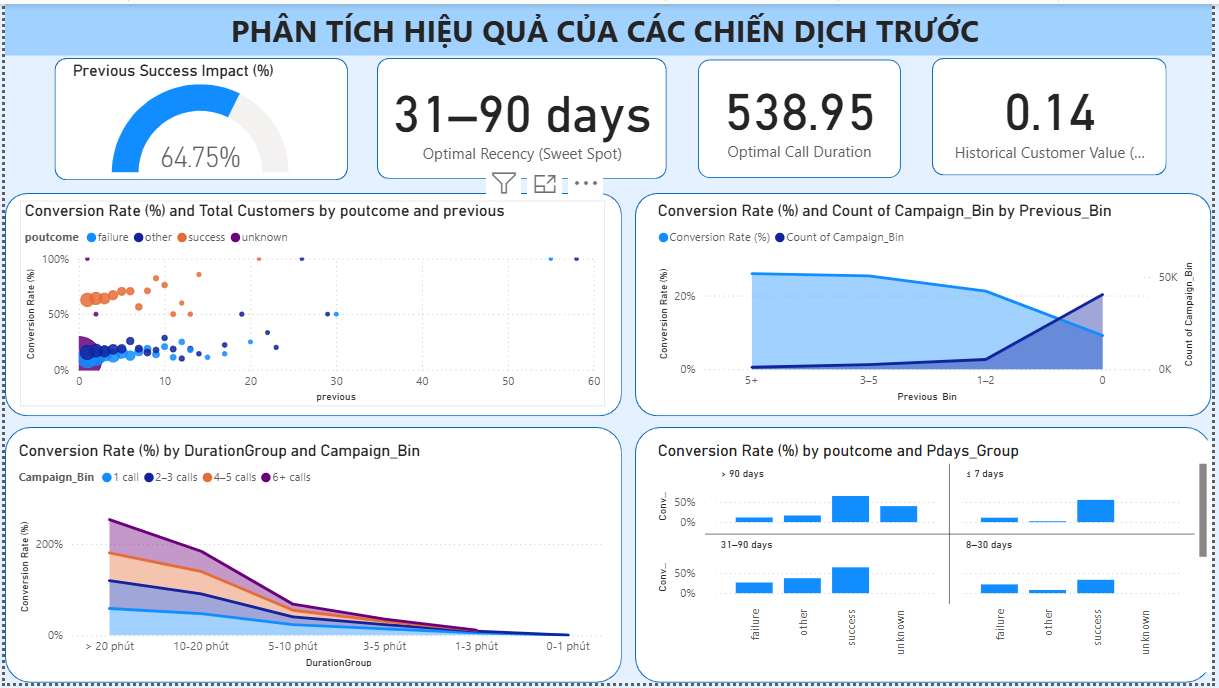

The dashboard page shown, as its layout file describes it:
{"tool":"powerbi","page":{"name":"Previous Campaign Analyisis","canvas":[1280,720],"ordinal":2},"visuals":[{"type":"shape","box":[0,449,654.2,271.1],"z":0},{"type":"shape","box":[668.5,200.8,611.1,236.7],"z":500},{"type":"shape","box":[394,57,307.2,128.3],"z":1000},{"type":"shape","box":[668.5,449,611.1,271.1],"z":1500},{"type":"shape","box":[734.9,58.3,215.1,125.7],"z":2000},{"type":"shape","box":[0,200.8,654.2,236.7],"z":2500},{"type":"shape","box":[983.7,57,248.8,124.4],"z":3000},{"type":"textbox","box":[0,0,1281.1,54.5],"z":4000},{"type":"shape","box":[51.8,57,311.1,129.6],"z":5000},{"type":"gauge","fields":{"Y":["Fact_Marketing_Campaign.Previous Success Impact (%)"]},"box":[67.4,60.9,279.9,123.1],"z":6000},{"type":"columnChart","fields":{"Category":["Dim_Previous_Campaign.poutcome"],"Rows":["Fact_Marketing_Campaign.Pdays_Group"],"Y":["Fact_Marketing_Campaign.Conversion Rate (%)"]},"box":[687.2,463.4,592.5,245.3],"z":7000},{"type":"card","fields":{"Values":["Fact_Marketing_Campaign.Historical Customer Value (%)"]},"box":[999.3,60.9,217.7,115.3],"z":8000},{"type":"card","fields":{"Values":["Fact_Marketing_Campaign.Optimal Recency (Sweet Spot)"]},"box":[399.2,62.2,298.1,115.3],"z":9000},{"type":"scatterChart","fields":{"Y":["Fact_Marketing_Campaign.Conversion Rate (%)"],"X":["Fact_Marketing_Campaign.previous"],"Size":["Fact_Marketing_Campaign.Total Customers"],"Series":["Fact_Marketing_Campaign.poutcome"]},"box":[16,209,620,218],"z":11000},{"type":"stackedAreaChart","fields":{"Category":["Fact_Marketing_Campaign.DurationGroup"],"Series":["Fact_Marketing_Campaign.Campaign_Bin"],"Y":["Fact_Marketing_Campaign.Conversion Rate (%)"]},"box":[10,463.4,631.2,245.3],"z":12000},{"type":"card","fields":{"Values":["Fact_Marketing_Campaign.Optimal Call Duration"]},"box":[750.4,60.9,182.7,114.1],"z":13000},{"type":"areaChart","fields":{"Category":["Fact_Marketing_Campaign.Previous_Bin"],"Y":["Fact_Marketing_Campaign.Conversion Rate (%)"],"Y2":["CountNonNull(Fact_Marketing_Campaign.Campaign_Bin)"]},"box":[686.9,208.7,578,217.7],"z":13001}]}

Visuals, with their boxes in screenshot pixels (x1, y1, x2, y2), scaled from the page's 1280x720 canvas onto the 1219x688 screenshot:
shape: box=[0, 429, 623, 687]
shape: box=[637, 192, 1218, 418]
shape: box=[375, 54, 668, 177]
shape: box=[637, 429, 1218, 687]
shape: box=[700, 56, 905, 176]
shape: box=[0, 192, 623, 418]
shape: box=[937, 54, 1174, 173]
textbox: box=[0, 0, 1218, 52]
shape: box=[49, 54, 346, 178]
gauge - Fact_Marketing_Campaign.Previous Success Impact (%): box=[64, 58, 331, 176]
columnChart - Dim_Previous_Campaign.poutcome x Fact_Marketing_Campaign.Pdays_Group: box=[654, 443, 1218, 677]
card - Fact_Marketing_Campaign.Historical Customer Value (%): box=[952, 58, 1159, 168]
card - Fact_Marketing_Campaign.Optimal Recency (Sweet Spot): box=[380, 59, 664, 170]
scatterChart - Fact_Marketing_Campaign.Conversion Rate (%) x Fact_Marketing_Campaign.previous: box=[15, 200, 606, 408]
stackedAreaChart - Fact_Marketing_Campaign.DurationGroup x Fact_Marketing_Campaign.Campaign_Bin: box=[10, 443, 611, 677]
card - Fact_Marketing_Campaign.Optimal Call Duration: box=[715, 58, 889, 167]
areaChart - Fact_Marketing_Campaign.Previous_Bin x Fact_Marketing_Campaign.Conversion Rate (%): box=[654, 199, 1205, 407]
